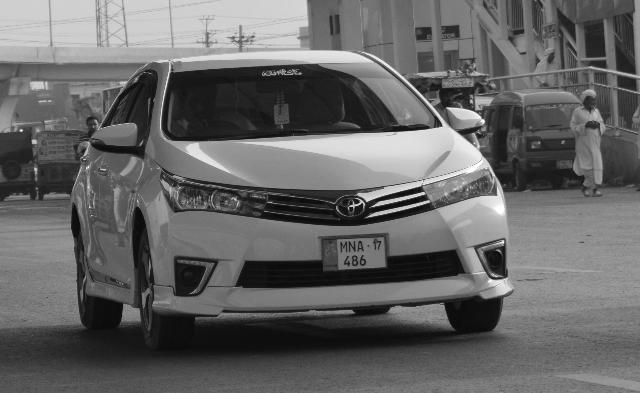Number: (339, 241, 369, 269)
